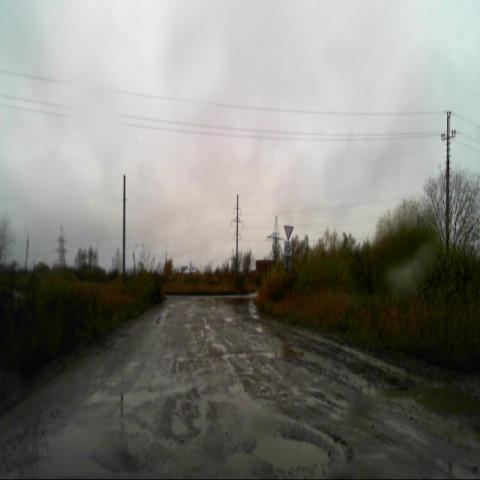2_4: (284, 224, 294, 241)
8_13_1: (283, 240, 293, 257)
